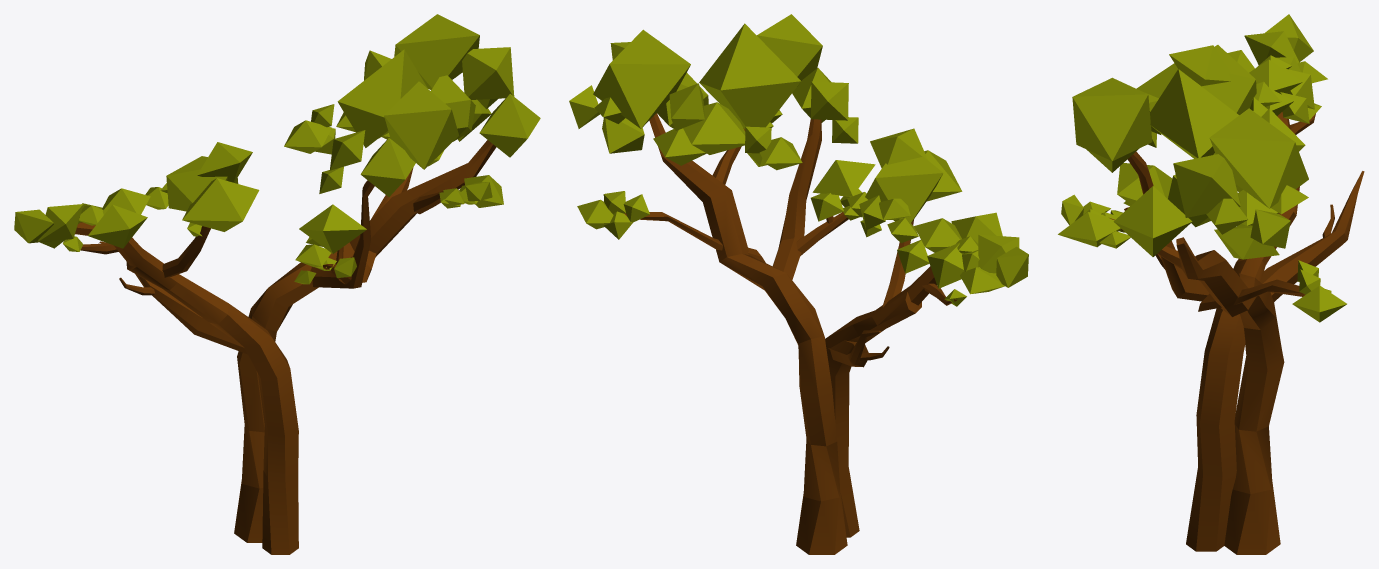
The model's file is TreeAfrica.fbx.
3 views of the same model, side by side, from view 1: azimuth 30°, elevation 25°; view 2: azimuth 150°, elevation 25°; view 3: azimuth 270°, elevation 25° (orthographic). The views are drawn at different scales.
Visible parts, largest first — view 1: treeBig; view 2: treeBig; view 3: treeBig.
Part boxes in pixels (x1=…): treeBig: x1=14, y1=14, x2=540, y2=554; treeBig: x1=569, y1=14, x2=1028, y2=554; treeBig: x1=1058, y1=14, x2=1364, y2=554.
Bounding box in the file's own units: 1091 × 1046 × 543.
